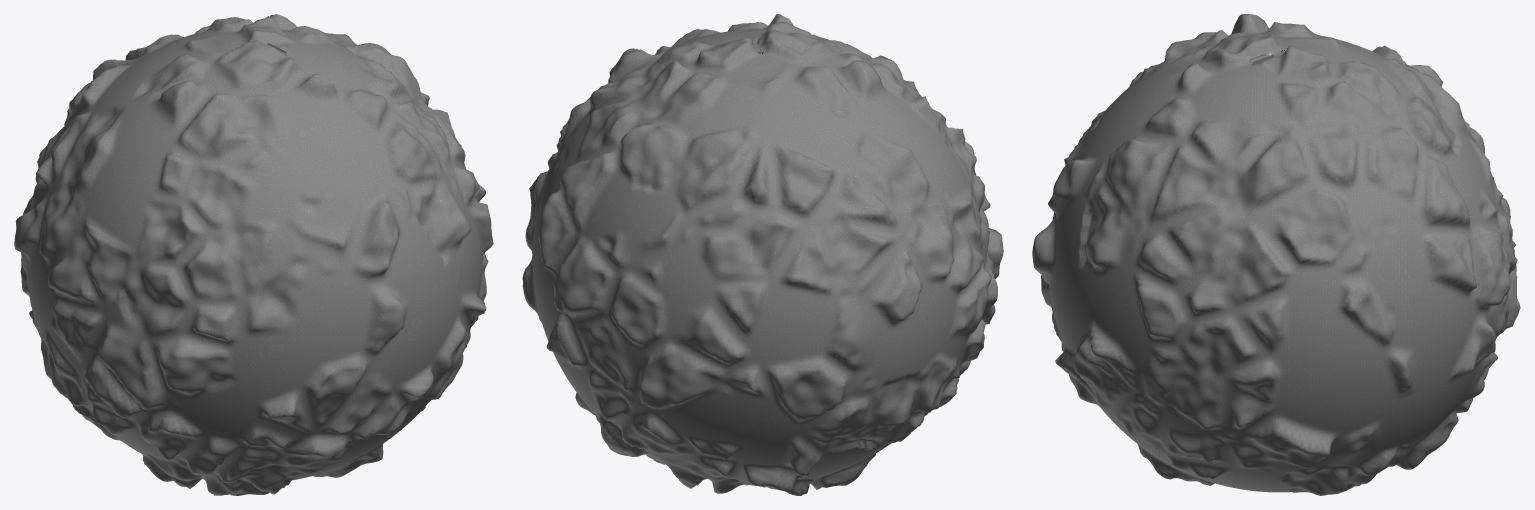
File: sandbox level.glb
The picture shows the model from 3 angles, left to right: view 1: azimuth 30°, elevation 25°; view 2: azimuth 150°, elevation 25°; view 3: azimuth 270°, elevation 25°; orthographic projection.
Parts seen in each view (by area): view 1: Planet.001; view 2: Planet.001; view 3: Planet.001.
Part boxes in pixels (x1=…): Planet.001: x1=14, y1=14, x2=493, y2=495; Planet.001: x1=522, y1=14, x2=1003, y2=495; Planet.001: x1=1032, y1=14, x2=1520, y2=495.
Bounding box in the file's own units: 2042 × 2023 × 2064.
8 materials, 8 textured.
